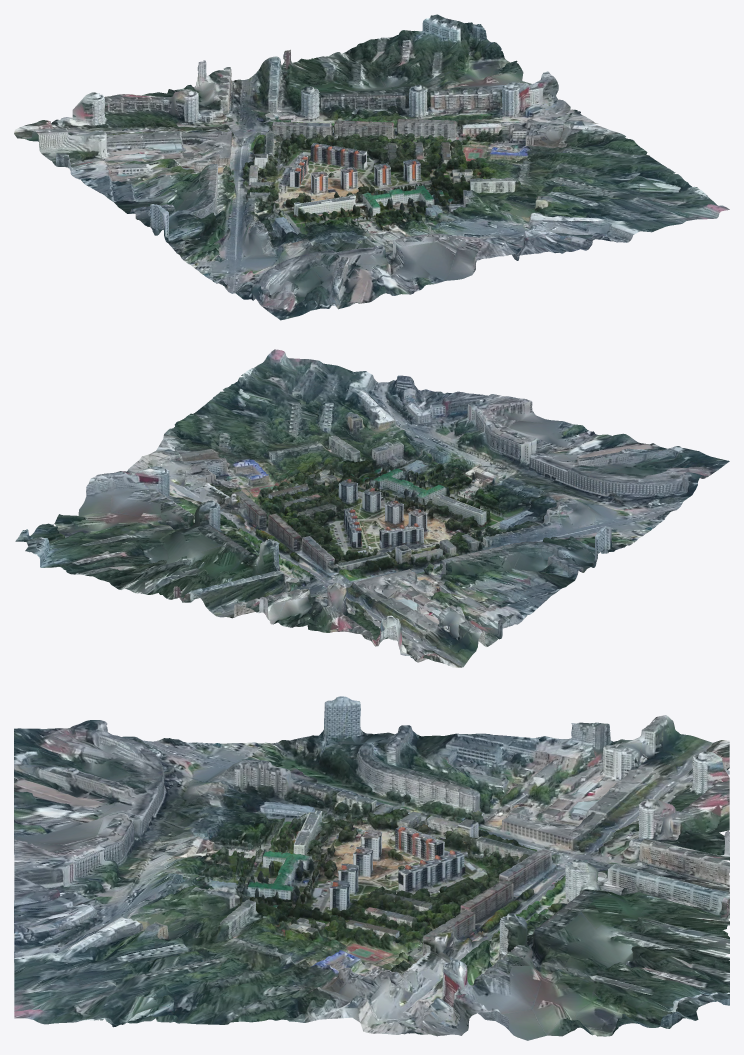
File: city-scan.glb
3 views of the same model, one above another, from view 1: azimuth 30°, elevation 25°; view 2: azimuth 150°, elevation 25°; view 3: azimuth 270°, elevation 25° (orthographic). The views are drawn at different scales.
Parts seen in each view (by area): view 1: Model.001; view 2: Model.001; view 3: Model.001.
Boxes of the visible parts, <box> form: Model.001: <box>14,14,729,320</box>; Model.001: <box>15,349,729,667</box>; Model.001: <box>14,696,729,1040</box>.
Size of the model in its own units: 78.51 by 7.07 by 81.57.
Materials: 1 (1 with a texture image).
